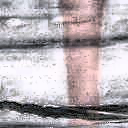crackTip: (1, 97, 128, 124)
